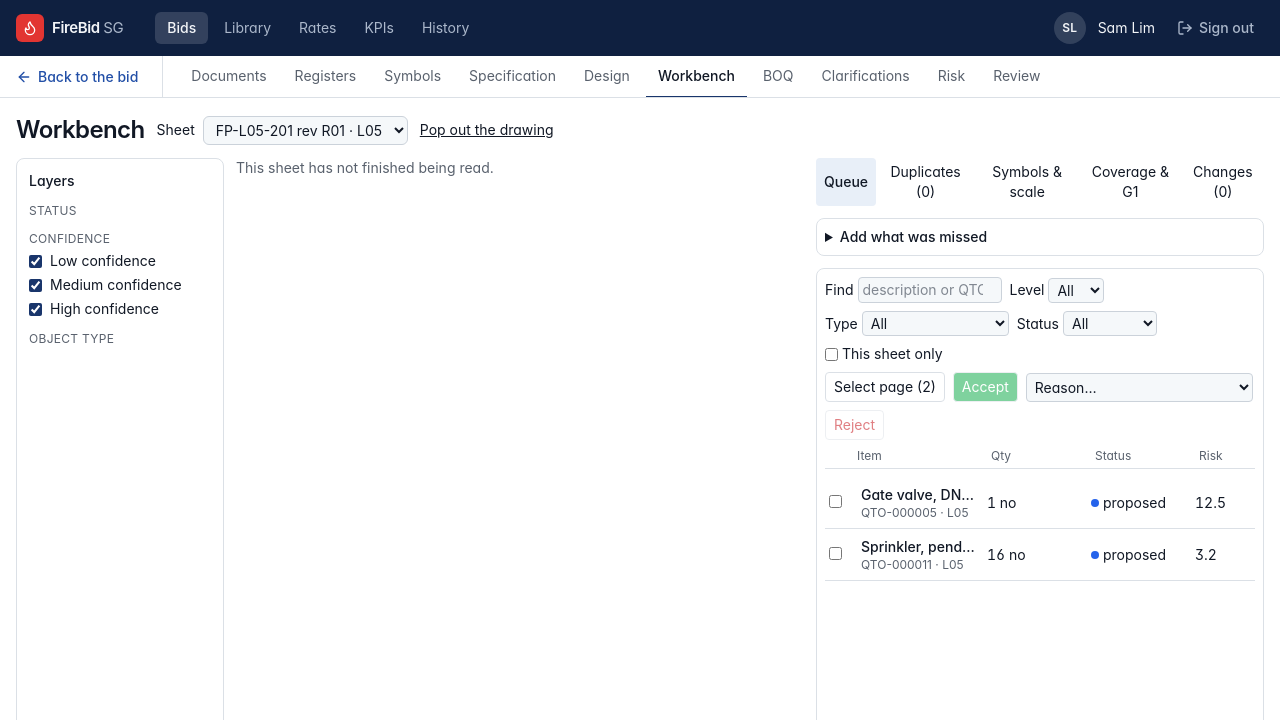
the workbench › approves G1 for a senior estimator
The width and height of the screenshot is (1280, 720).
Click the button "Coverage & G1".
click(1130, 182)  # box [1083,158,1178,206]
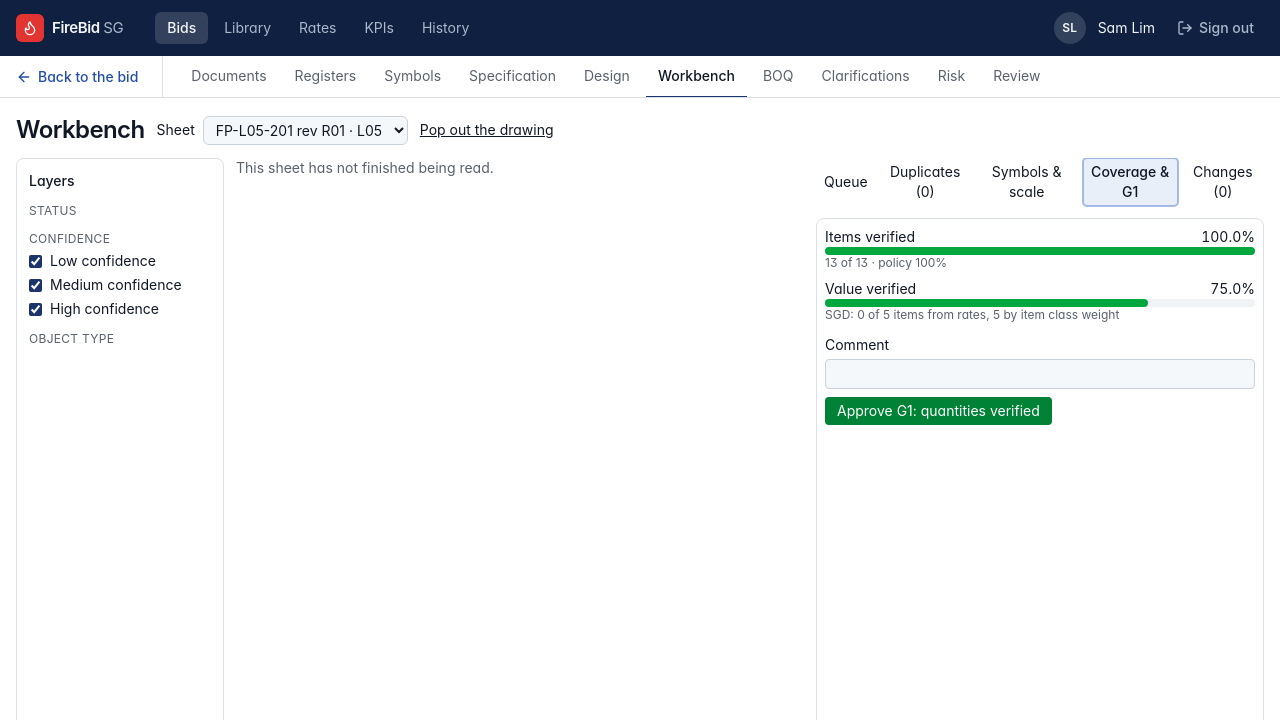
expect the button "Approve G1: quantities verified" is enabled: met
Click the button "Approve G1: quantities verified".
click(938, 411)  # box [825,397,1052,425]
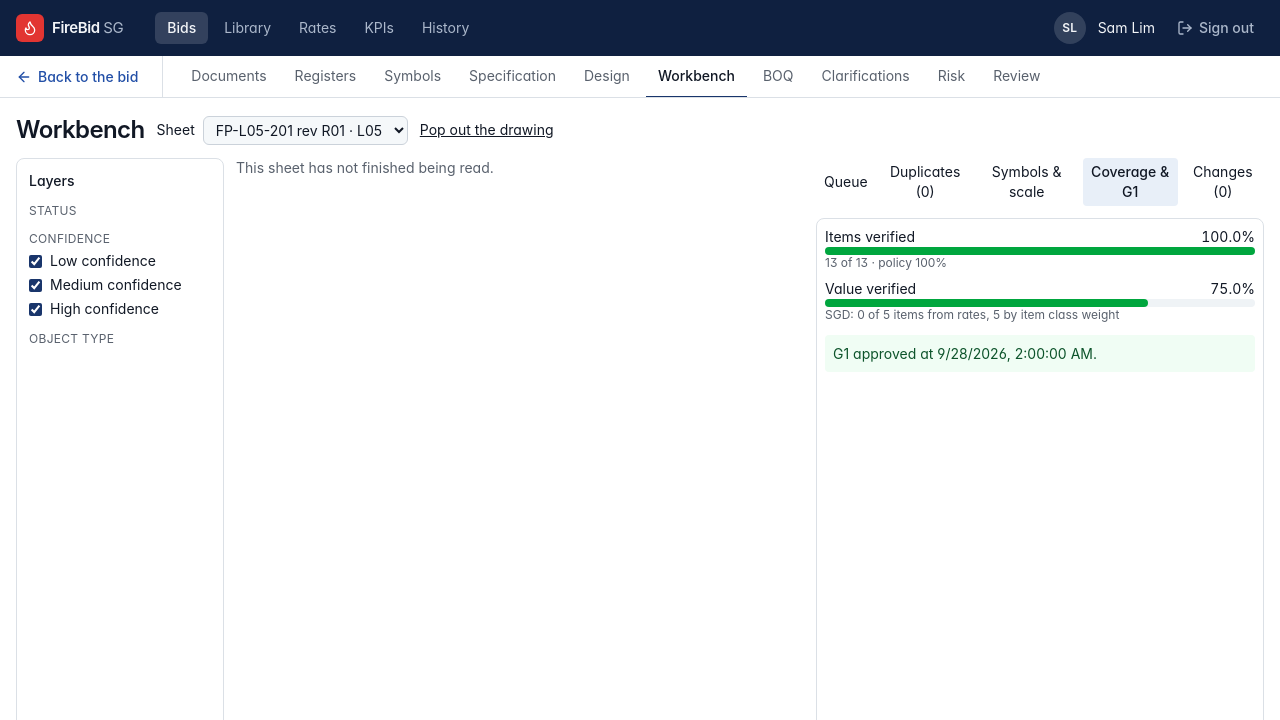
expect the text "G1 approved at 9/28/2026, 2:00:00 AM." is shown: met, box [825,335,1255,372]
